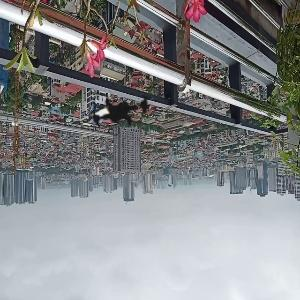drone: (73, 58, 169, 154)
